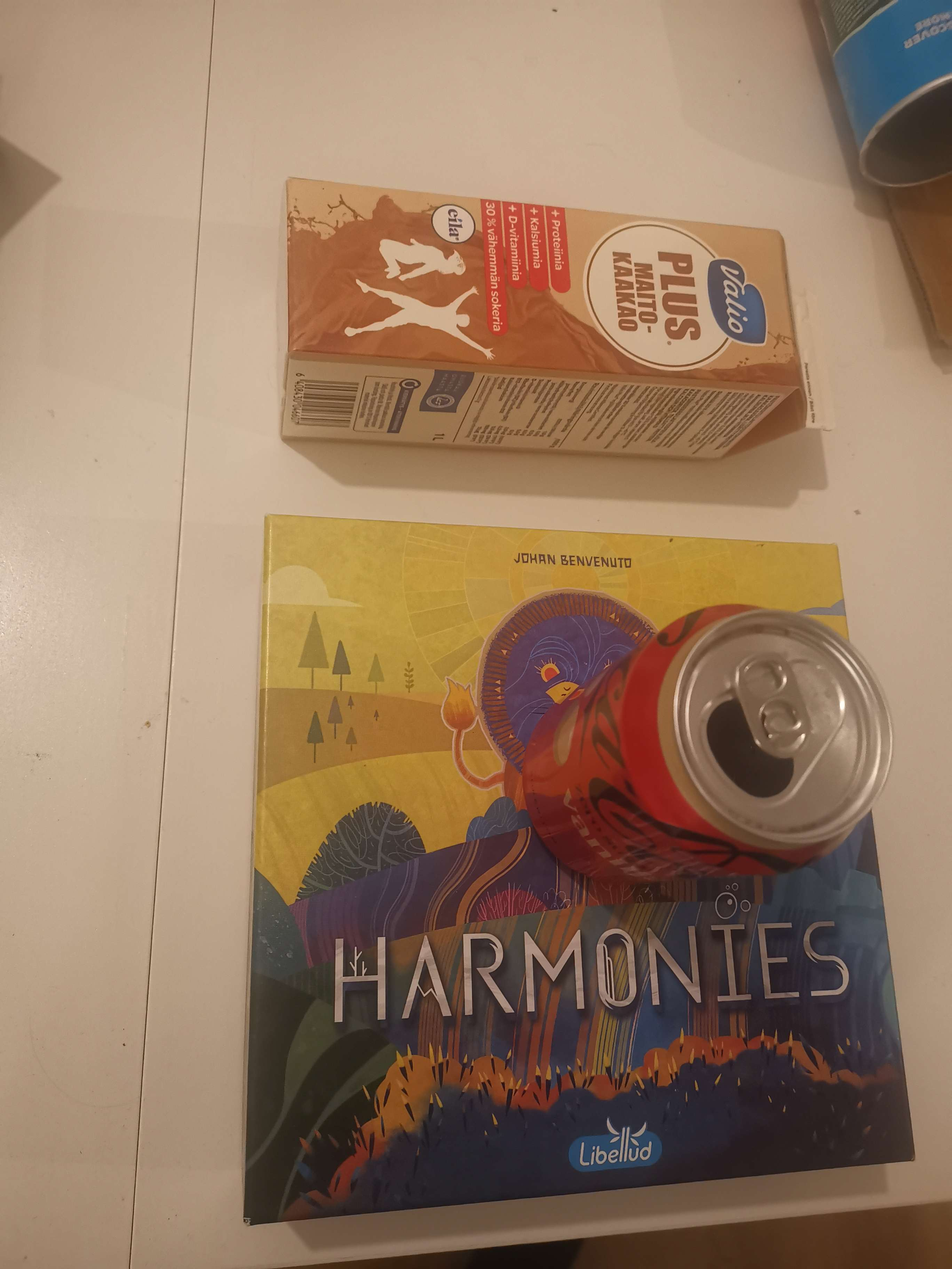Pantburk: (278, 178, 839, 465), (521, 603, 895, 886)
